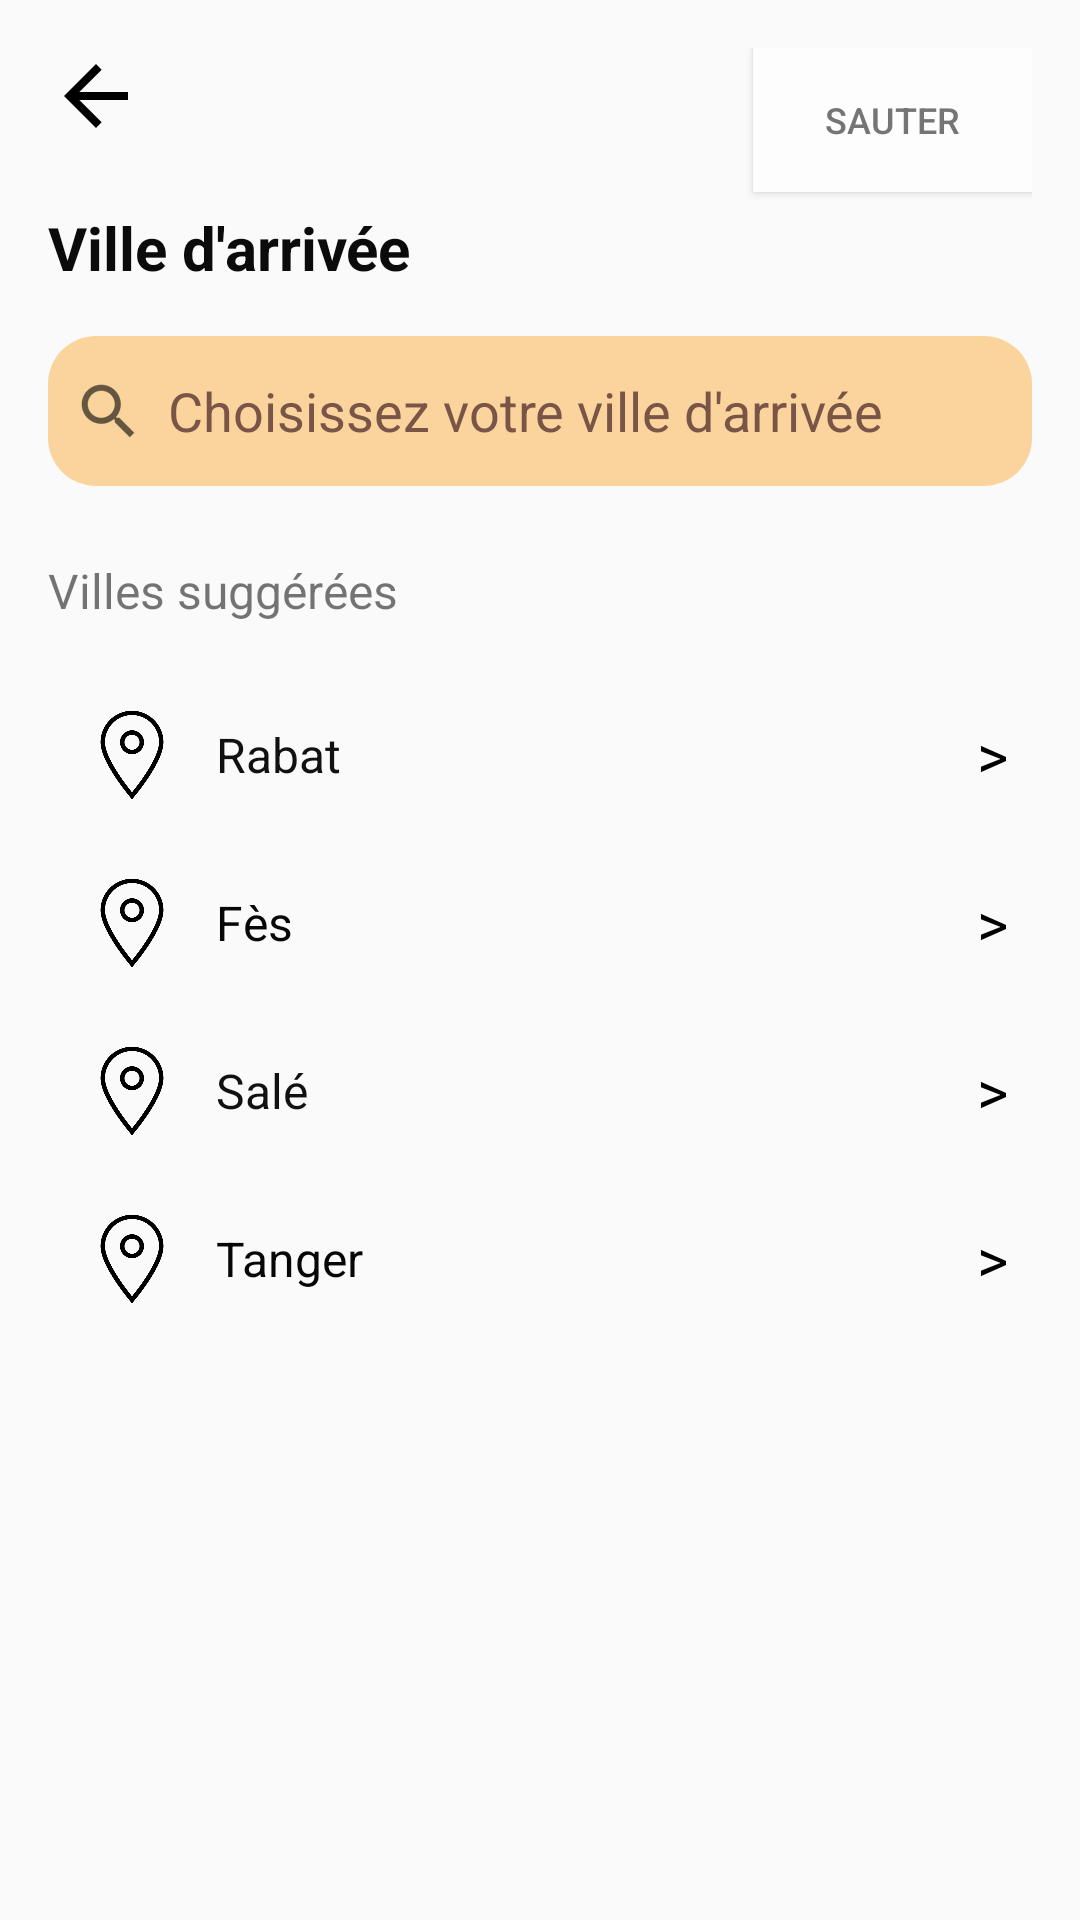

Screen size 1080 x 1920. Icon name, then its center in pixels as [x,y]:
Icône de localisation: [132,755], [132,923], [132,1091], [132,1259]
Recherche: [107,410]
Retour: [96,96]
